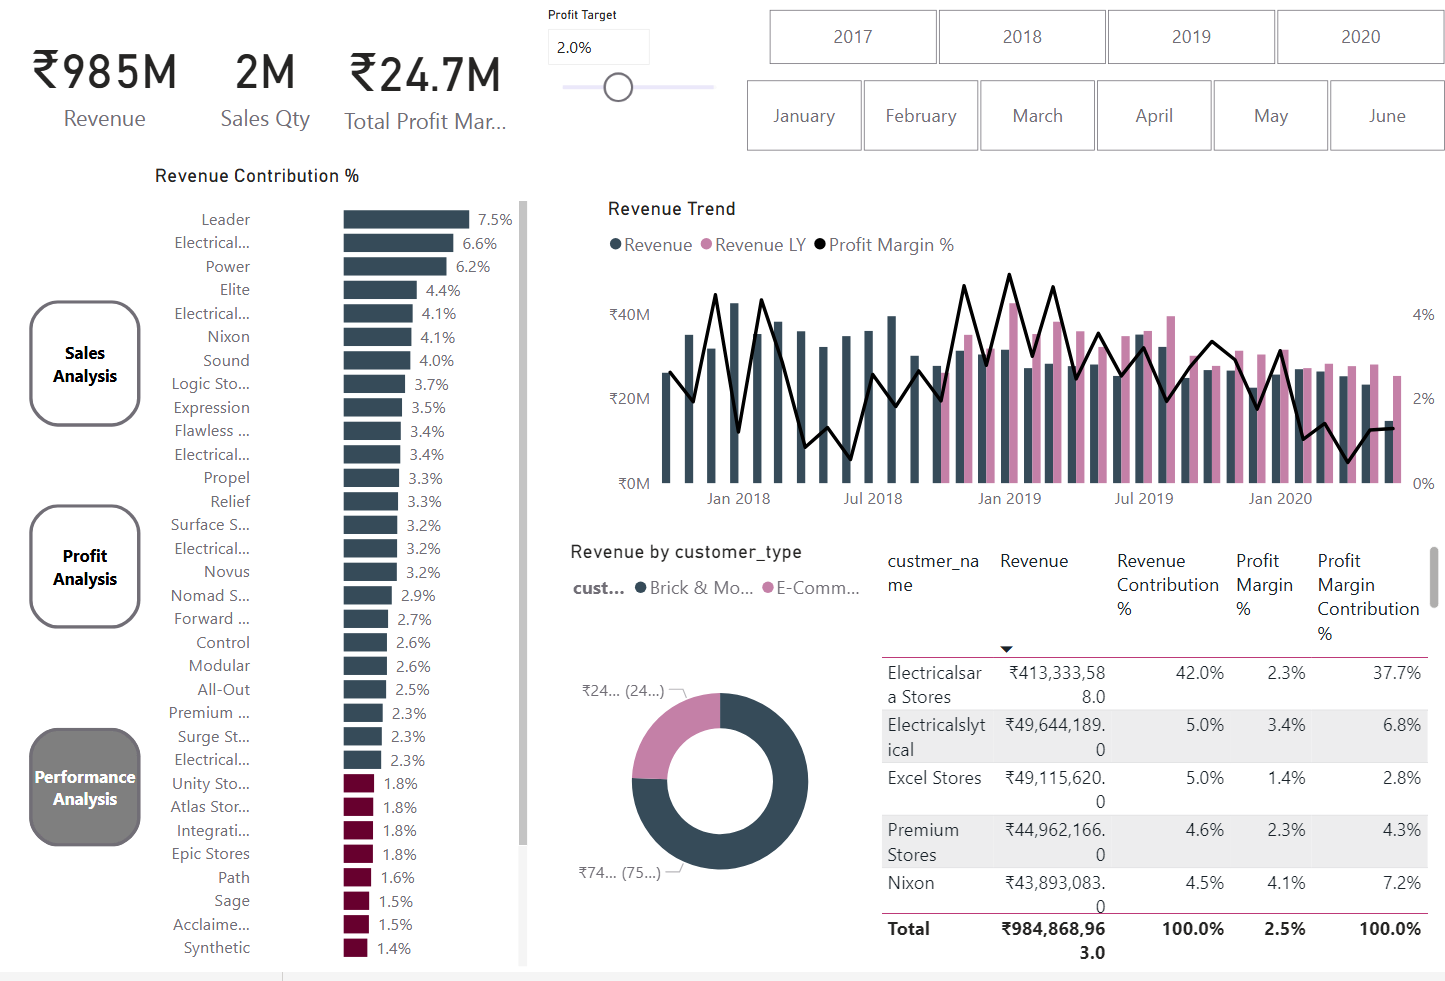

The page's visual inventory and layout, read from the dashboard file:
{"tool":"powerbi","page":{"name":"Performance Analysis","canvas":[1280,850],"ordinal":2},"visuals":[{"type":"card","fields":{"Values":["BaseMeasures.Revenue"]},"box":[0,1.7,168.3,136.7],"z":0},{"type":"actionButton","box":[10,628.3,113.3,120],"z":0,"group":"g1"},{"type":"card","fields":{"Values":["BaseMeasures.Sales Qty"]},"box":[168.3,1.7,113.3,136.7],"z":1000},{"type":"actionButton","box":[10,433.3,113.3,125],"z":1000,"group":"g1"},{"type":"actionButton","box":[10,255,113.3,126.7],"z":2000,"group":"g1"},{"type":"slicer","fields":{"Values":["sales date.year"]},"box":[640,1.4,640,61.4],"z":4000},{"type":"slicer","fields":{"Values":["sales date.cy_date.Variation.Date Hierarchy.Month"]},"box":[620,62.9,660,75.7],"z":5000},{"type":"lineClusteredColumnComboChart","title":"Revenue Trend","fields":{"Category":["sales date.cy_date"],"Y":["BaseMeasures.Revenue","BaseMeasures.Revenue LY"],"Y2":["BaseMeasures.Profit Margin %"]},"box":[520,171.7,736.7,283.3],"z":6000},{"type":"card","fields":{"Values":["BaseMeasures.Total Profit Margin"]},"box":[285,1.7,160,141.7],"z":7000},{"type":"barChart","title":"Revenue Contribution %","fields":{"Y":["BaseMeasures.Profit Margin %"],"Category":["sales markets.zone","sales markets.markets_name","sales customers.custmer_name"]},"box":[122.9,142.9,335.7,707.1],"z":8000},{"type":"tableEx","fields":{"Values":["sales customers.custmer_name","BaseMeasures.Revenue","BaseMeasures.Revenue Contribution %","BaseMeasures.Profit Margin %","BaseMeasures.Profit Margin Contribution %"]},"box":[758.6,472.9,498.6,377.1],"z":9000},{"type":"donutChart","fields":{"Category":["sales customers.customer_type"],"Y":["BaseMeasures.Revenue"]},"box":[487.1,472.9,271.4,370],"z":10000},{"type":"slicer","fields":{"Values":["Profit Target.Profit Target"]},"box":[458.6,1.4,181.4,137.1],"z":10001},{"type":"group","id":"g1","title":"Group 1","box":[10,255,113.3,493.3],"z":10002}]}

Visuals, with their boxes in screenshot pixels (x1, y1, x2, y2), scaled from the page's 1280x850 canvas onto the 1445x981 screenshot:
card - BaseMeasures.Revenue: (0, 2, 190, 160)
actionButton: (11, 725, 139, 864)
card - BaseMeasures.Sales Qty: (190, 2, 318, 160)
actionButton: (11, 500, 139, 644)
actionButton: (11, 294, 139, 441)
slicer - sales date.year: (722, 2, 1444, 72)
slicer - sales date.cy_date.Variation.Date Hierarchy.Month: (700, 73, 1444, 160)
"Revenue Trend" lineClusteredColumnComboChart: (587, 198, 1419, 525)
card - BaseMeasures.Total Profit Margin: (322, 2, 502, 166)
"Revenue Contribution %" barChart: (139, 165, 518, 980)
tableEx - sales customers.custmer_name x BaseMeasures.Revenue: (856, 546, 1419, 980)
donutChart - sales customers.customer_type x BaseMeasures.Revenue: (550, 546, 856, 973)
slicer - Profit Target.Profit Target: (518, 2, 722, 160)
"Group 1" group: (11, 294, 139, 864)
